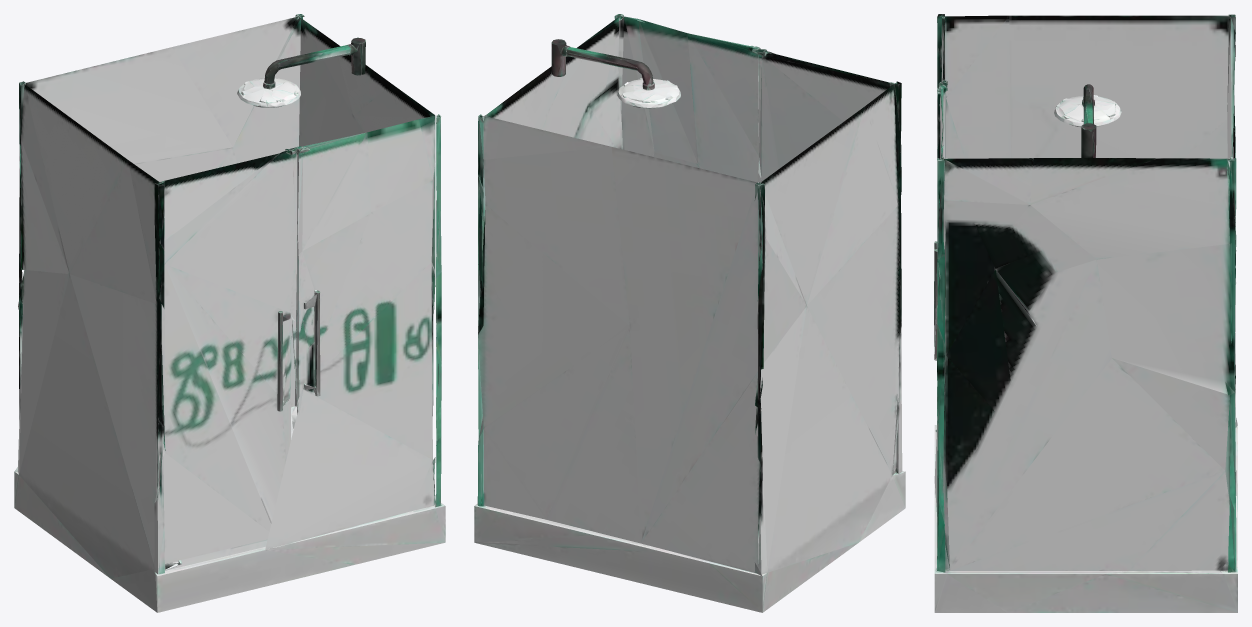
File: shower.glb
The picture shows the model from 3 angles, left to right: view 1: azimuth 30°, elevation 25°; view 2: azimuth 150°, elevation 25°; view 3: azimuth 270°, elevation 25°; orthographic projection. The views are drawn at different scales.
Size of the model in its own units: 1.27 by 1.9 by 1.09.
1 material, 1 textured.
